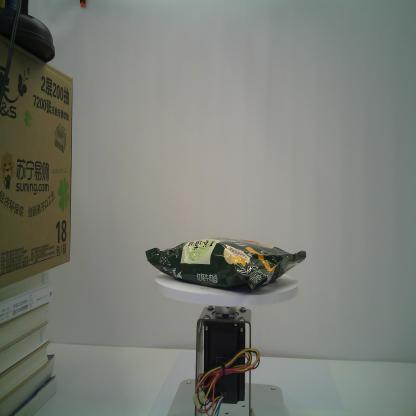Instant Noodles: (142, 235, 309, 297)
